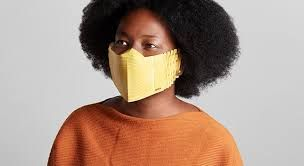with-mask: (100, 9, 199, 105)
